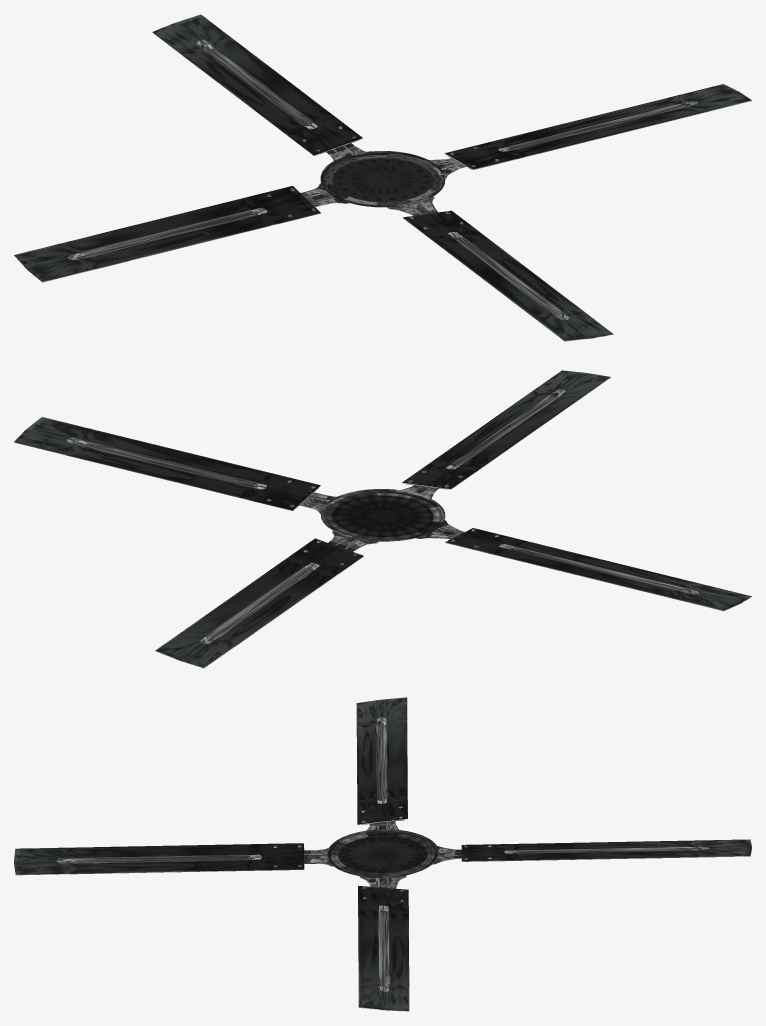
Rendered from ventilador_helice.obj.
3 views of the same model, one above another, from view 1: azimuth 30°, elevation 25°; view 2: azimuth 150°, elevation 25°; view 3: azimuth 270°, elevation 25° (orthographic). The views are drawn at different scales.
Visible parts, largest first — view 1: helice_ventiladordeteto_(1).001; view 2: helice_ventiladordeteto_(1).001; view 3: helice_ventiladordeteto_(1).001.
Boxes of the visible parts, left/top/right/bottom form: helice_ventiladordeteto_(1).001: left=14, top=14, right=751, bottom=341; helice_ventiladordeteto_(1).001: left=14, top=370, right=751, bottom=668; helice_ventiladordeteto_(1).001: left=14, top=697, right=751, bottom=1011.
Bounding box in the file's own units: 2.66 × 0.0736 × 2.66.
Materials: 1 (1 with a texture image).
